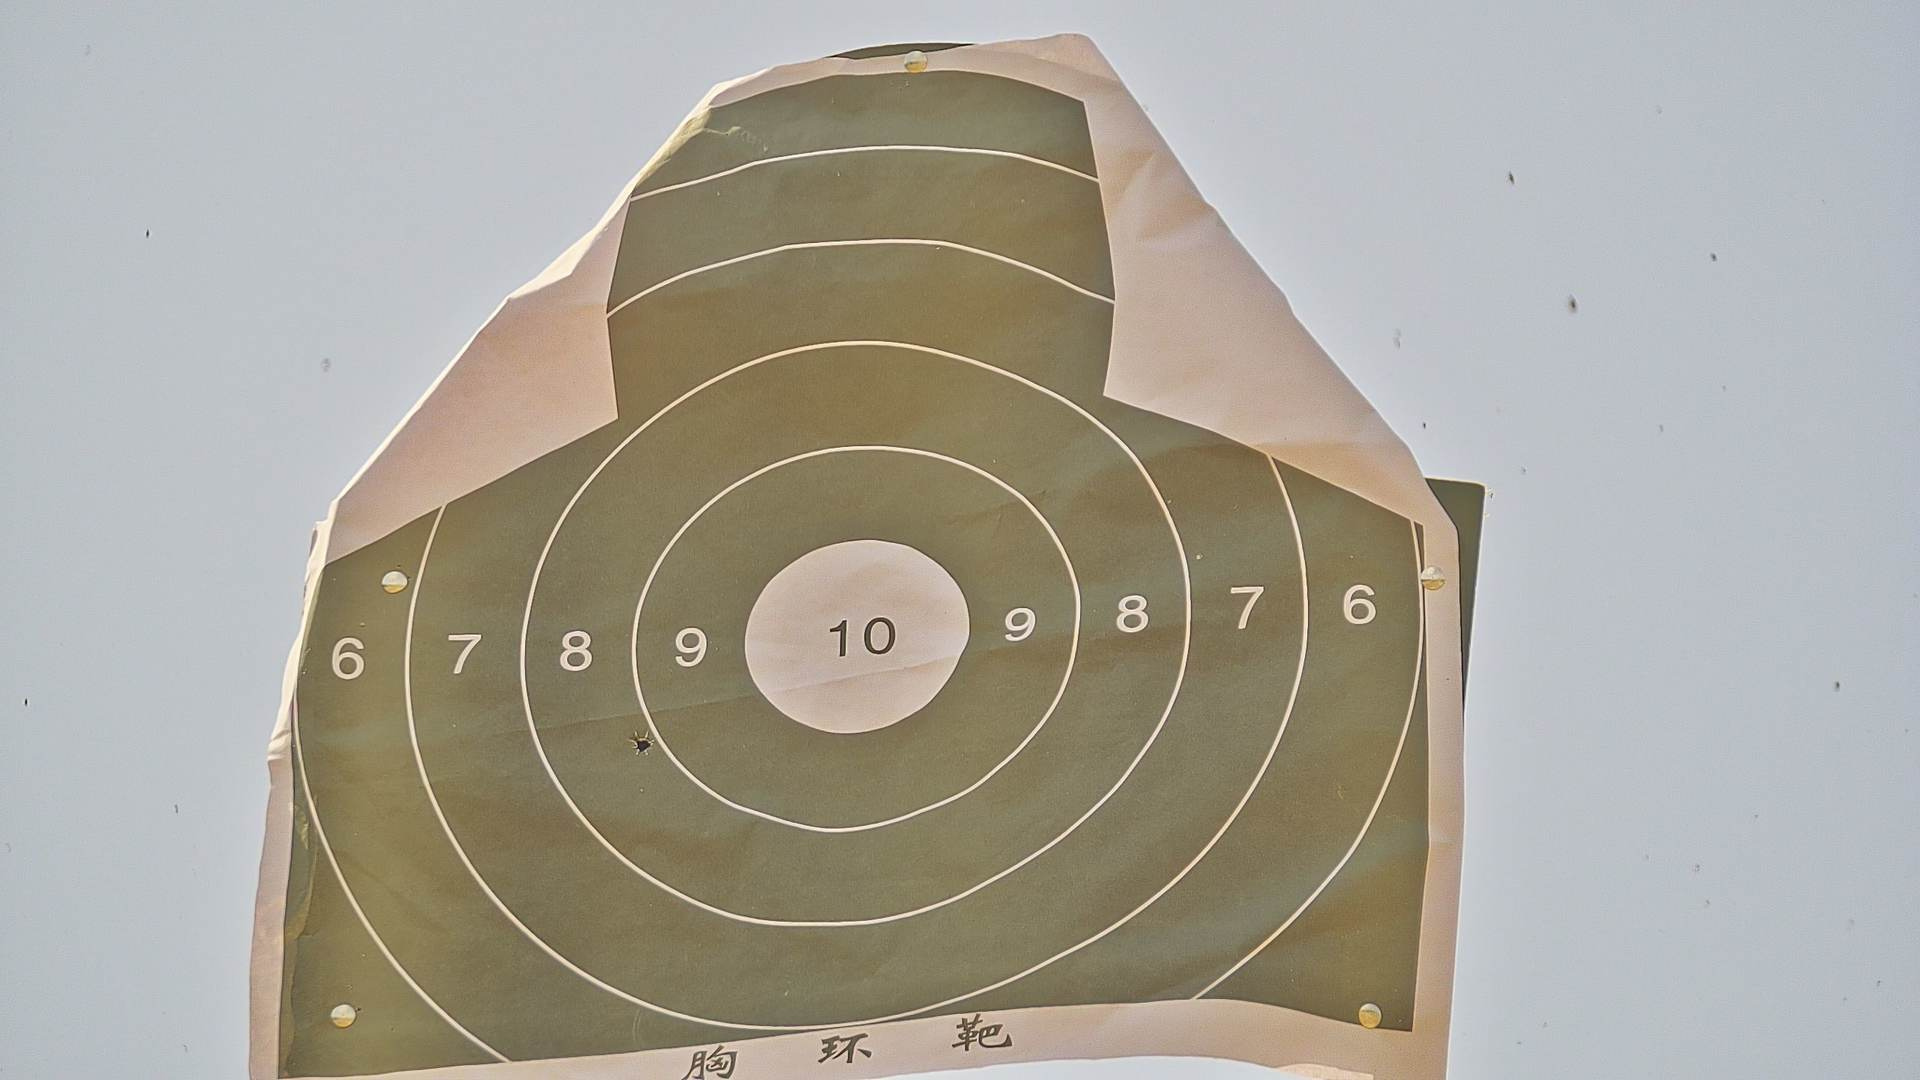hole: (633, 737, 654, 753)
kernel: (853, 636, 858, 644)
target: (273, 69, 1428, 1058)
ten: (735, 538, 973, 736)
